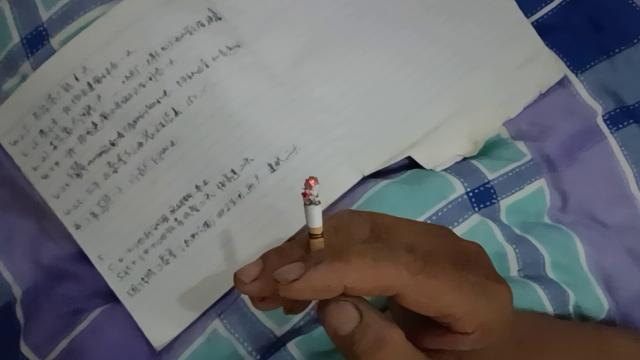Smoking: (302, 176, 326, 262)
